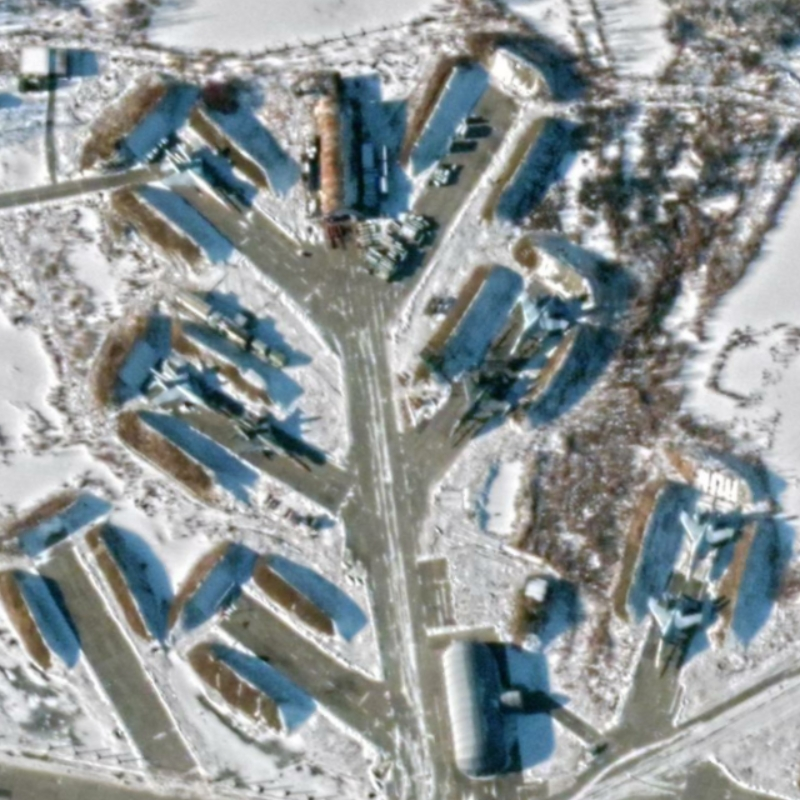A1: (155, 140, 243, 214), (147, 351, 230, 424), (229, 409, 314, 475), (642, 589, 708, 673), (672, 502, 738, 585), (441, 366, 511, 443), (504, 288, 576, 358)
